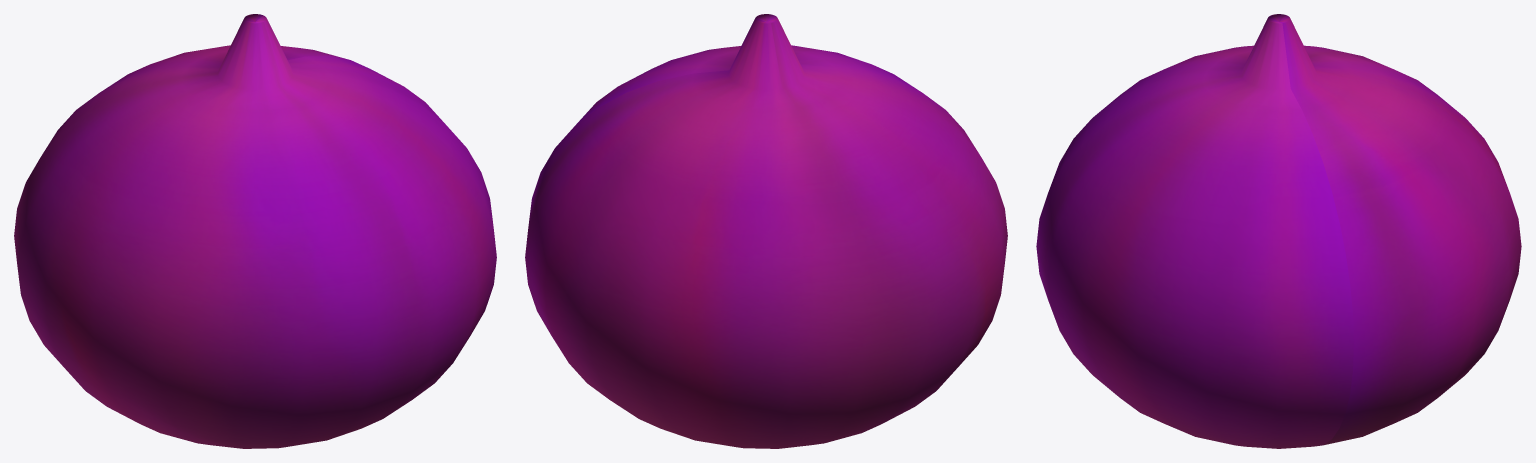
Rendered from Onion.obj.
3 views of the same model, side by side, from view 1: azimuth 30°, elevation 25°; view 2: azimuth 150°, elevation 25°; view 3: azimuth 270°, elevation 25° (orthographic).
Visible parts, largest first — view 1: Onion:pasted__pSphere1group; view 2: Onion:pasted__pSphere1group; view 3: Onion:pasted__pSphere1group.
Boxes of the visible parts, x1=… form: Onion:pasted__pSphere1group: x1=14, y1=14, x2=496, y2=448; Onion:pasted__pSphere1group: x1=525, y1=14, x2=1007, y2=448; Onion:pasted__pSphere1group: x1=1036, y1=14, x2=1521, y2=448.
Size of the model in its own units: 2 by 1.83 by 2.
1 material, 1 textured.
